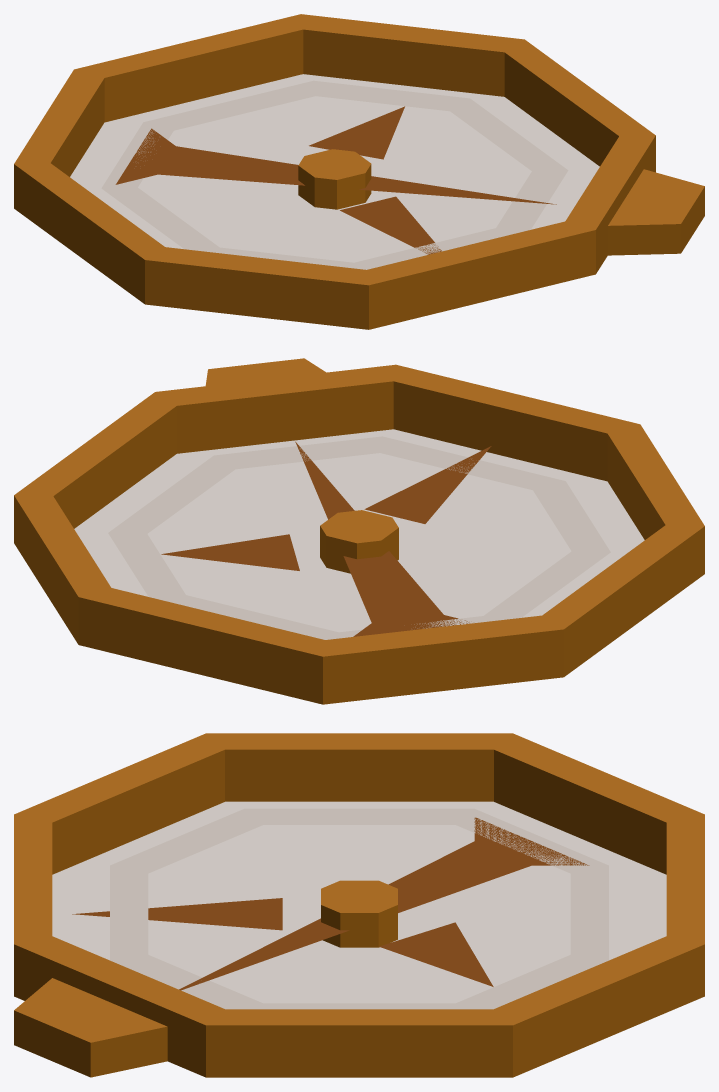
The model's file is inv_watch.obj.
3 renders of one model, top to bottom at view 1: azimuth 30°, elevation 25°; view 2: azimuth 150°, elevation 25°; view 3: azimuth 270°, elevation 25°, orthographic. The views are drawn at different scales.
Bounding box in the file's own units: 0.2812 × 0.0234 × 0.2812.
